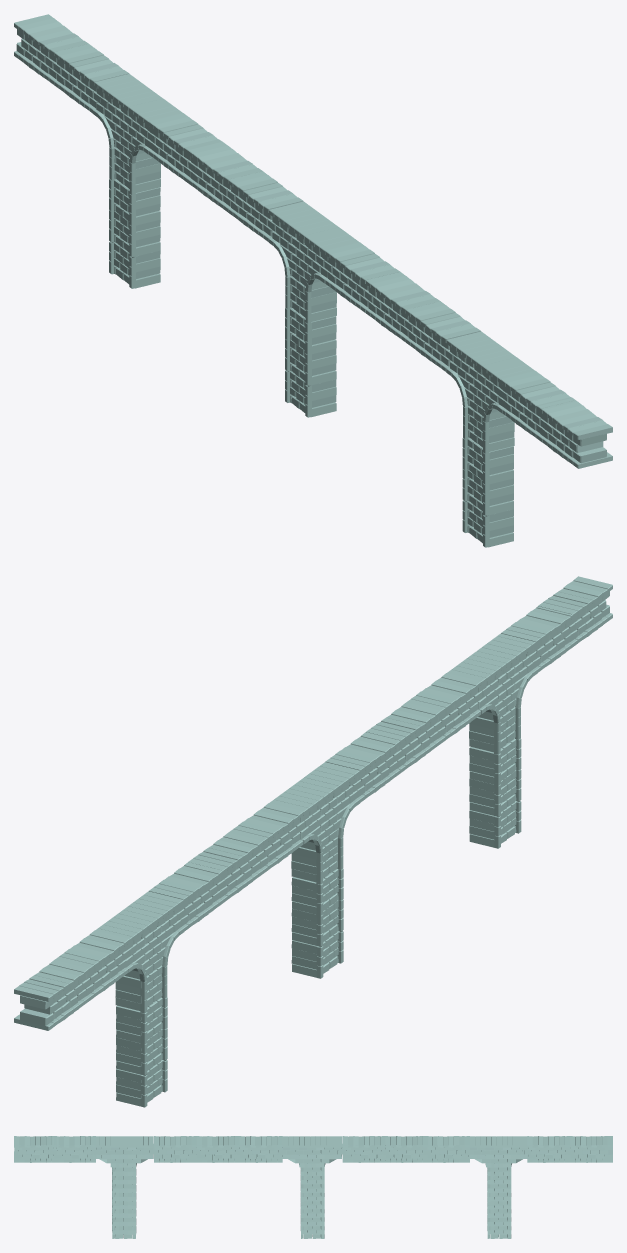
Rendered from Escenario1.fbx.
3 views of the same model, one above another, from view 1: azimuth 30°, elevation 25°; view 2: azimuth 150°, elevation 25°; view 3: azimuth 270°, elevation 25° (orthographic). The views are drawn at different scales.
Visible parts, largest first — view 1: polySurface3537; view 2: polySurface3537; view 3: polySurface3537.
Boxes of the visible parts, left/top/right/bottom form: polySurface3537: left=14, top=14, right=612, bottom=547; polySurface3537: left=14, top=576, right=612, bottom=1107; polySurface3537: left=14, top=1136, right=612, bottom=1238.
Bounding box in the file's own units: 1.33 × 6.42 × 36.43.
